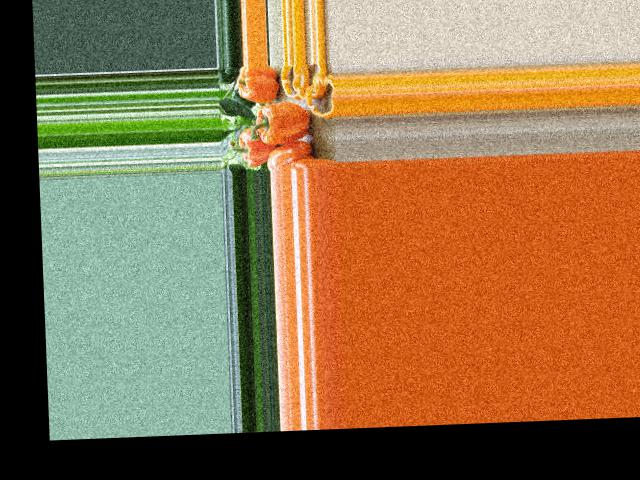bell_pepper: (265, 140, 315, 170)
